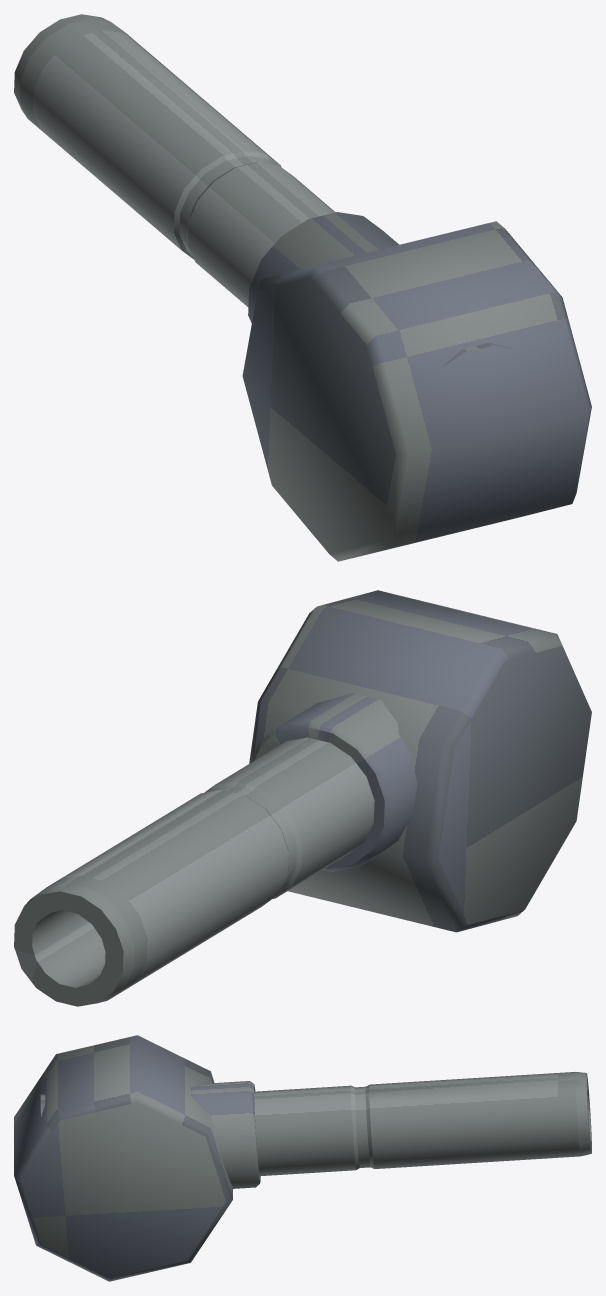
Rendered from ZUBR_TURRET_STICK.fbx.
3 renders of one model, top to bottom at view 1: azimuth 30°, elevation 25°; view 2: azimuth 150°, elevation 25°; view 3: azimuth 270°, elevation 25°, orthographic. The views are drawn at different scales.
Parts seen in each view (by area): view 1: Desert_tank_zubr.014; view 2: Desert_tank_zubr.014; view 3: Desert_tank_zubr.014.
Boxes of the visible parts, x1,y1,x2,y2 form: Desert_tank_zubr.014: [14, 14, 591, 561]; Desert_tank_zubr.014: [14, 590, 591, 1006]; Desert_tank_zubr.014: [14, 1035, 591, 1281].
Size of the model in its own units: 46.7 by 64.06 by 178.
